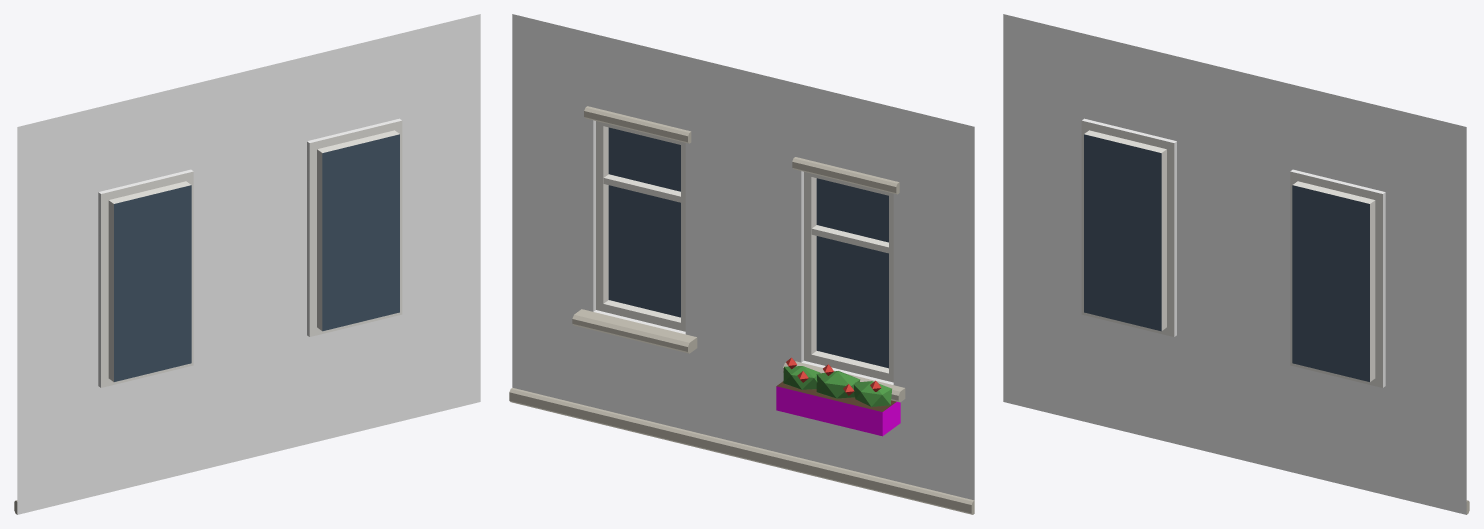
Rendered from apt_win_b.glb.
3 renders of one model, left to right at view 1: azimuth 30°, elevation 25°; view 2: azimuth 150°, elevation 25°; view 3: azimuth 330°, elevation 25°, orthographic.
Visible parts, largest first — view 1: apt_win_b__mesh; view 2: apt_win_b__mesh; view 3: apt_win_b__mesh.
Boxes of the visible parts, x1,y1,x2,y2 form: apt_win_b__mesh: [14, 14, 480, 514]; apt_win_b__mesh: [509, 14, 974, 514]; apt_win_b__mesh: [1003, 14, 1469, 514].
Size of what is drawn, in the model's own units: 4 by 3.2 by 0.42.
3 materials, 2 textured.
